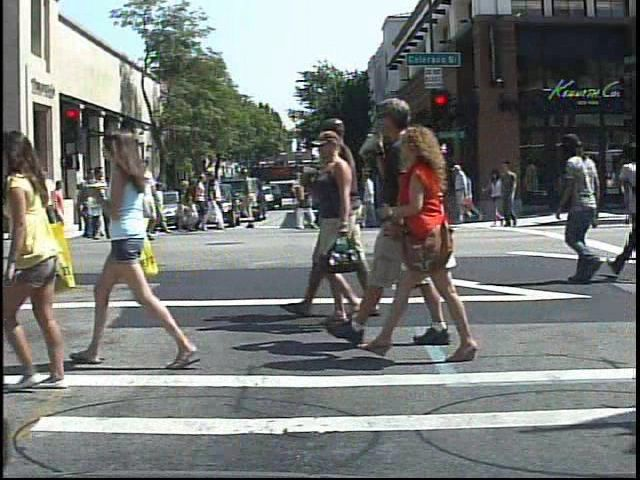person: (340, 87, 459, 349), (376, 118, 491, 363), (87, 113, 185, 376), (1, 125, 73, 386), (555, 127, 612, 284), (128, 160, 162, 244), (86, 162, 116, 241), (450, 160, 481, 232), (34, 167, 62, 244), (11, 180, 31, 242), (93, 181, 113, 220)
